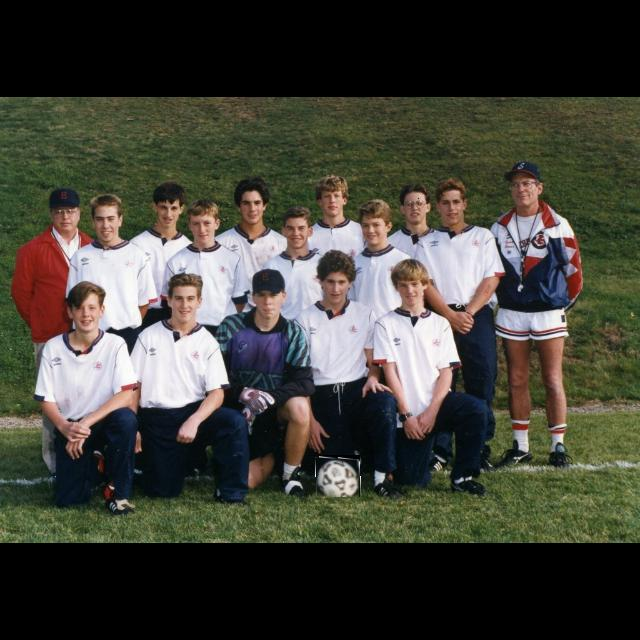Football: (316, 455, 360, 497)
